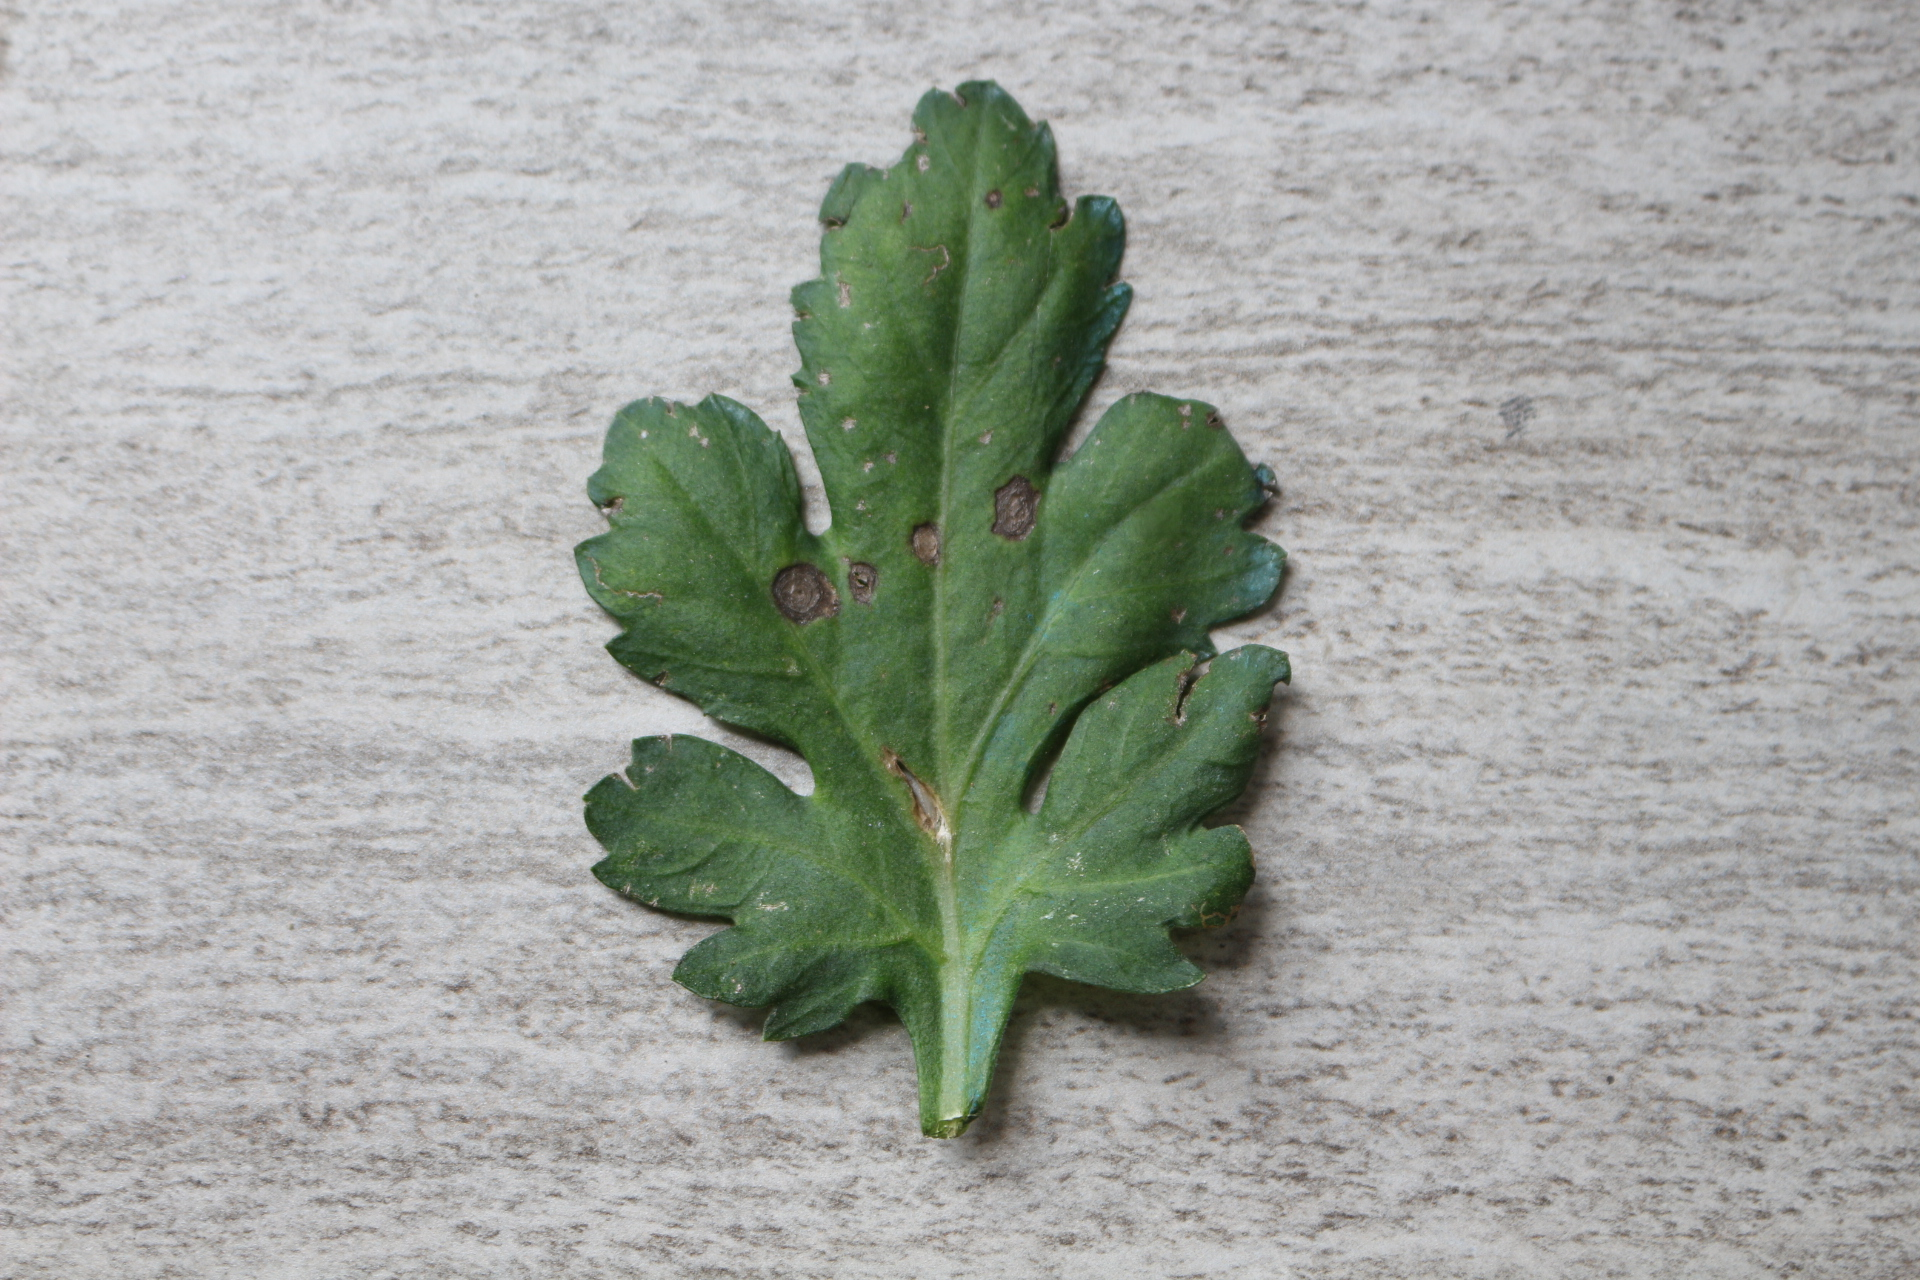namden: (769, 554, 837, 626), (991, 473, 1037, 540), (909, 519, 949, 569), (843, 556, 879, 607)
